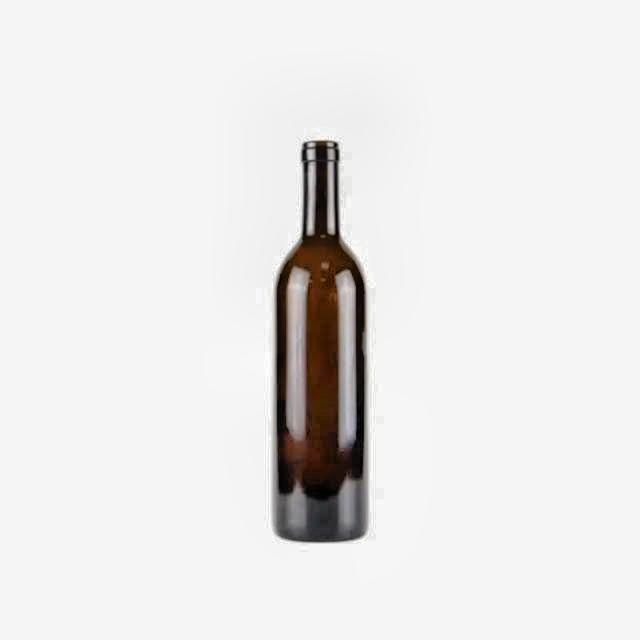glass: (272, 140, 369, 546)
